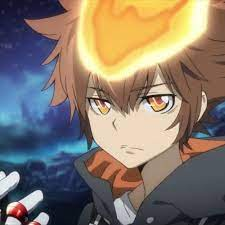Tsuna: (66, 3, 208, 167)
